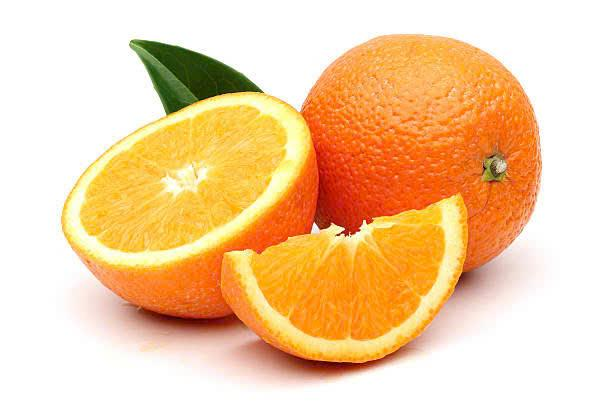orange: (269, 10, 565, 262), (57, 81, 303, 301), (209, 238, 493, 351)
